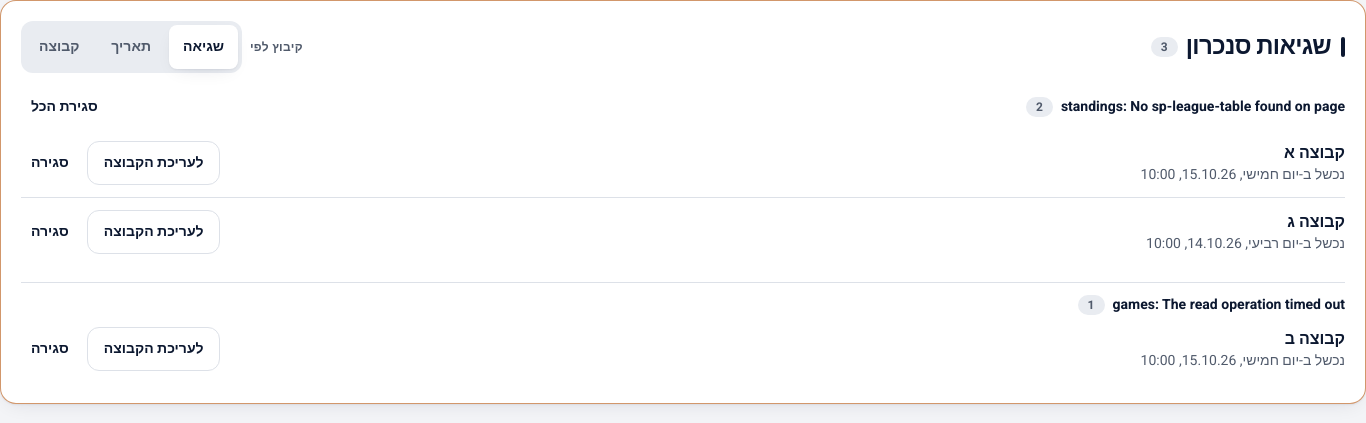
Test case: SyncFailures › grouping › dismiss-all keeps the rows that failed and shows an error
What coordinates should you click on to do the following:
click the button "סגירת הכל"
I would click on:
 (64, 107)
Its box is [21,85,108,129].
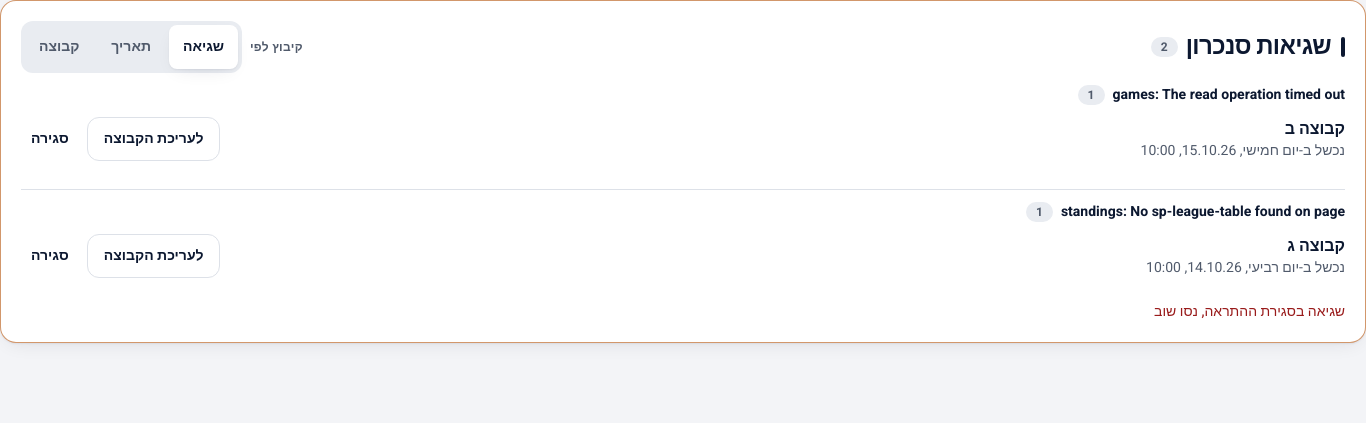
Check: the text "קבוצה ג" is shown, box [1287,234,1345,258]
Check: the text "קבוצה א" is gone
Check: the message "שגיאה בסגירת ההתראה, נסו שוב" is shown, box [1154,301,1345,322]
